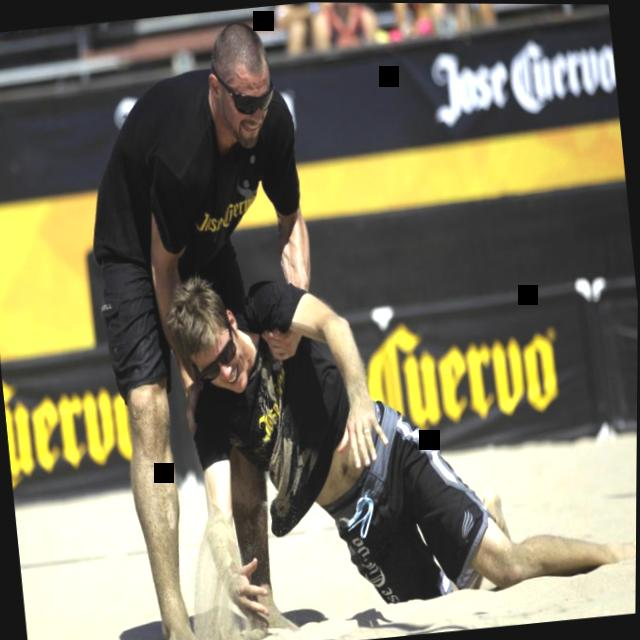Fall-Detected: (147, 211, 639, 640)
